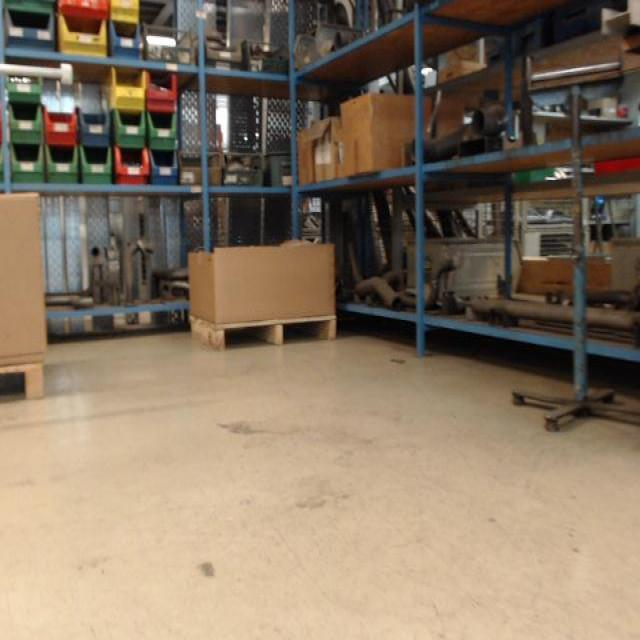pallet: (187, 314, 337, 351), (0, 360, 48, 405)
stillage: (481, 206, 576, 261)
